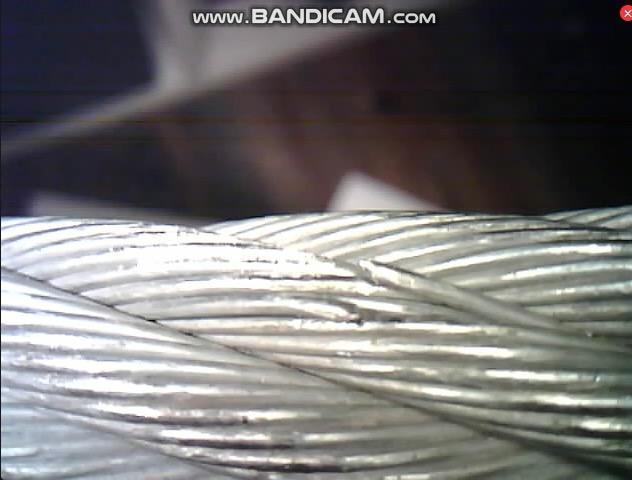break: (309, 251, 390, 298)
